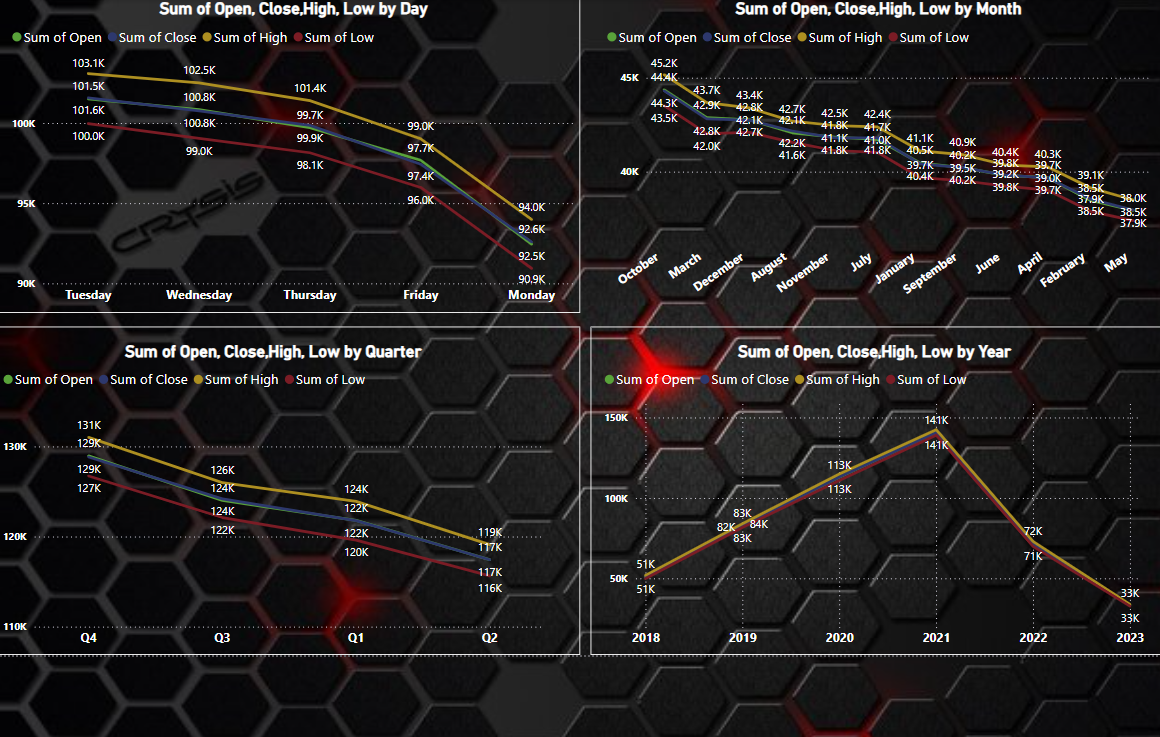

The page's visual inventory and layout, read from the dashboard file:
{"tool":"powerbi","page":{"name":"Page 2","canvas":[1280,720],"ordinal":1},"visuals":[{"type":"lineChart","title":"Sum of Open, Close,High, Low by  Day","fields":{"Category":["Sheet1 (2). Day"],"Y":["Sum(Sheet1 (2).Open)","Sum(Sheet1 (2).Close)","Sum(Sheet1 (2).High)","Sum(Sheet1 (2).Low)"]},"box":[10,0,630,344.3],"z":0},{"type":"lineChart","title":"Sum of Open, Close,High, Low by  Month","fields":{"Category":["Sheet1 (2).Month"],"Y":["Sum(Sheet1 (2).Open)","Sum(Sheet1 (2).Close)","Sum(Sheet1 (2).High)","Sum(Sheet1 (2).Low)"]},"box":[662.8,0,607.7,344.8],"z":1000},{"type":"lineChart","title":"Sum of Open, Close,High, Low by Quarter","fields":{"Category":["Sheet1 (2).Quarter"],"Y":["Sum(Sheet1 (2).Open)","Sum(Sheet1 (2).Close)","Sum(Sheet1 (2).High)","Sum(Sheet1 (2).Low)"]},"box":[0,375.4,604.1,344.8],"z":2000},{"type":"lineChart","title":"Sum of Open, Close,High, Low by Year","fields":{"Category":["Sheet1 (2).Year"],"Y":["Sum(Sheet1 (2).Open)","Sum(Sheet1 (2).Close)","Sum(Sheet1 (2).High)","Sum(Sheet1 (2).Low)"]},"box":[660.3,375.4,604.1,344.8],"z":3000},{"type":"shape","box":[0,0,639.5,344.8],"z":4000},{"type":"shape","box":[0,359.5,639.5,360.7],"z":5000},{"type":"shape","box":[650,359.2,630,360.6],"z":6000}]}

Visuals, with their boxes on the page's 1280x720 design canvas (x1, y1, x2, y2). These are canvas units, not pixel positions in the 1160x737 screenshot, which may show the page scaled, cropped or inside an application window:
"Sum of Open, Close,High, Low by  Day" lineChart: 10:0:640:344
"Sum of Open, Close,High, Low by  Month" lineChart: 663:0:1270:345
"Sum of Open, Close,High, Low by Quarter" lineChart: 0:375:604:720
"Sum of Open, Close,High, Low by Year" lineChart: 660:375:1264:720
shape: 0:0:640:345
shape: 0:360:640:720
shape: 650:359:1280:720
